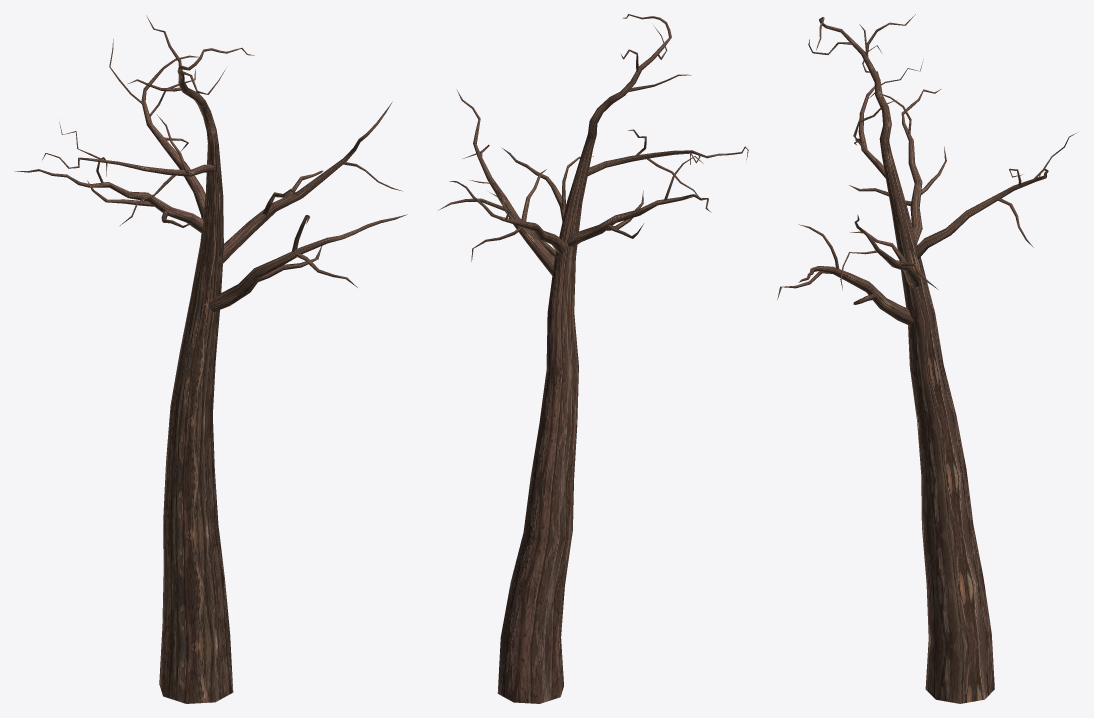
File: eztree-standing-snag-a.glb
3 renders of one model, left to right at view 1: azimuth 30°, elevation 25°; view 2: azimuth 150°, elevation 25°; view 3: azimuth 270°, elevation 25°, orthographic. The views are drawn at different scales.
Visible parts, largest first — view 1: eztree-standing-snag-a; view 2: eztree-standing-snag-a; view 3: eztree-standing-snag-a.
Boxes of the visible parts, x1=… form: eztree-standing-snag-a: x1=14, y1=15, x2=407, y2=703; eztree-standing-snag-a: x1=438, y1=14, x2=748, y2=703; eztree-standing-snag-a: x1=777, y1=14, x2=1077, y2=703.
Bounding box in the file's own units: 26.71 × 53.24 × 22.75.
1 material, 1 textured.
